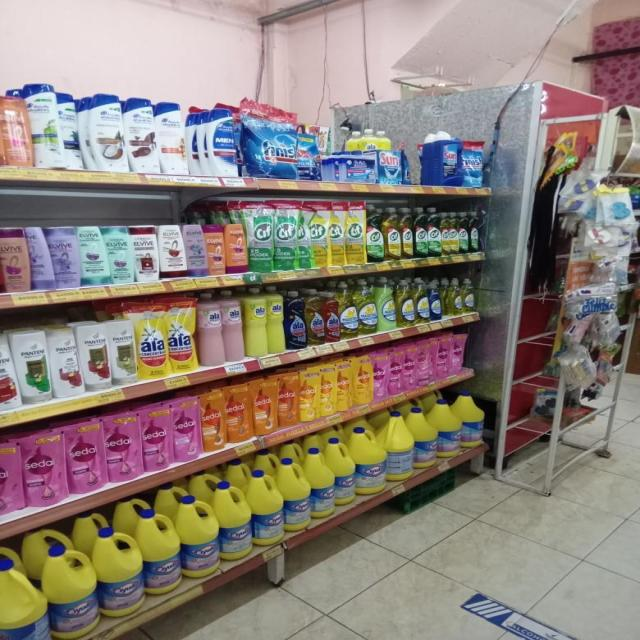ala_conc_amarillo: (306, 288, 324, 346)
ala_conc_azul: (285, 289, 305, 349)
ala_conc_rojo: (324, 288, 339, 342)
ala_crem_amarillo: (244, 286, 266, 358), (267, 287, 284, 354)
ala_crem_rosado: (197, 291, 222, 367), (222, 288, 243, 363)
ala_sachet_amarillo: (136, 300, 167, 379), (167, 296, 196, 374)
cif_conc_bot_amarilla: (384, 207, 400, 260), (401, 207, 413, 260), (441, 210, 451, 256), (450, 211, 458, 255)
cif_conc_botella_verde: (366, 205, 383, 263), (414, 207, 427, 258), (428, 208, 440, 257), (458, 211, 468, 254), (470, 210, 480, 253)
cif_conc_sachet_amarillo: (310, 200, 328, 268), (346, 200, 365, 264), (329, 200, 345, 266)
cif_conc_sachet_verde: (247, 200, 273, 273), (274, 200, 296, 271), (296, 200, 310, 270)
magistral_con_amarillo: (358, 280, 377, 334), (377, 278, 396, 331), (340, 282, 357, 338), (397, 279, 414, 327), (444, 278, 462, 316), (414, 278, 428, 324), (462, 278, 476, 313)
magistral_con_azul: (429, 278, 442, 321)
